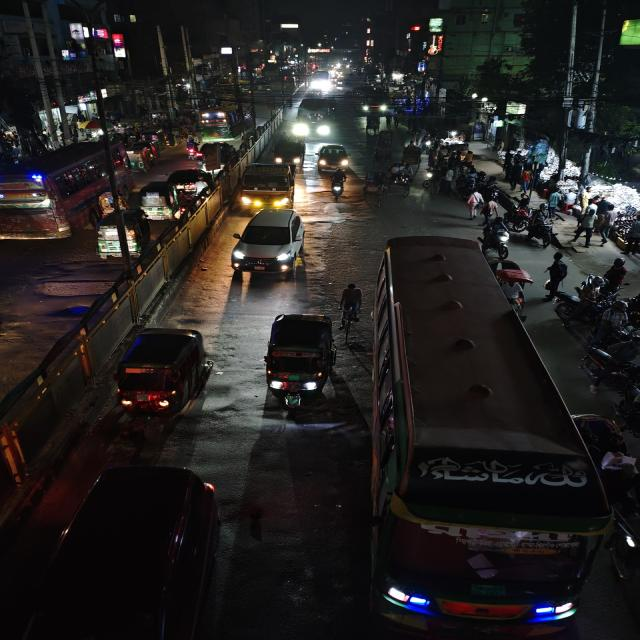bicycle: (337, 280, 365, 329)
bus: (368, 232, 602, 634), (0, 134, 133, 240), (295, 97, 333, 140), (196, 107, 239, 143)
car: (48, 465, 232, 639), (227, 206, 309, 280), (164, 167, 219, 196), (315, 141, 353, 173)
cng: (107, 324, 214, 428), (261, 309, 336, 409), (91, 207, 154, 260), (138, 179, 190, 221), (273, 138, 308, 168), (127, 152, 152, 172)
motorcycle: (576, 354, 640, 408), (528, 205, 561, 250), (326, 168, 350, 202), (486, 215, 511, 245), (182, 138, 202, 160)
pedestrian: (543, 254, 570, 294), (574, 205, 598, 247), (603, 258, 630, 292), (468, 189, 482, 220)
pickup_van: (238, 162, 298, 208)
rickshaw: (498, 259, 535, 291), (388, 161, 417, 197), (362, 169, 386, 201)
